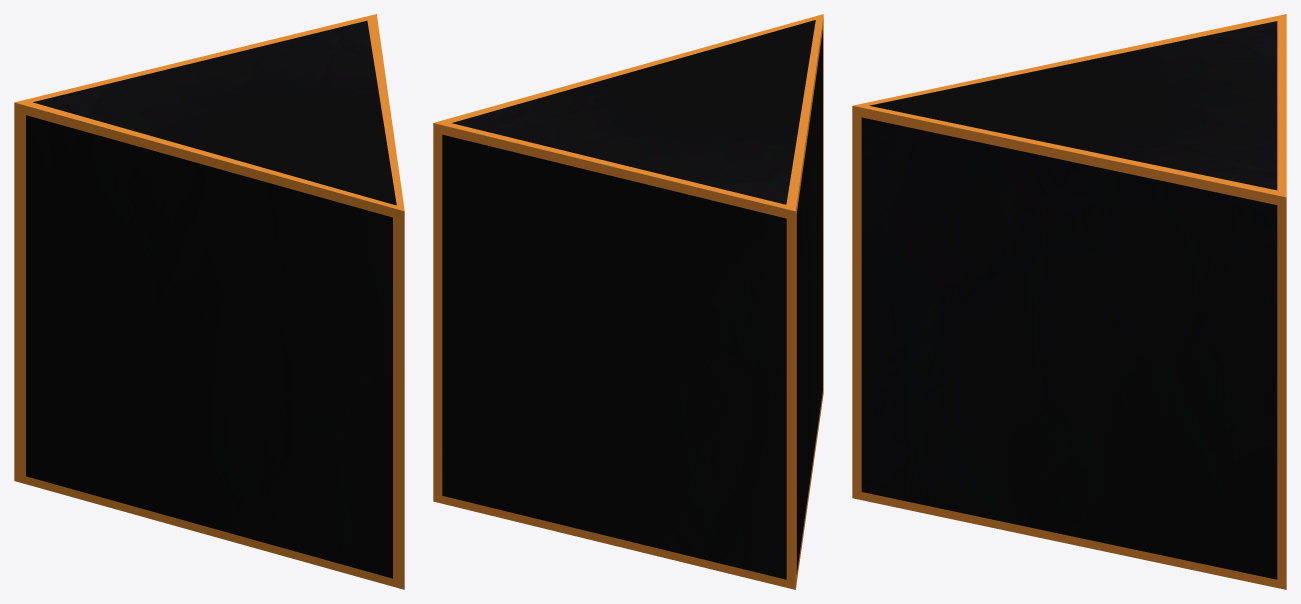
File: tri.fbx
3 renders of one model, left to right at view 1: azimuth 30°, elevation 25°; view 2: azimuth 150°, elevation 25°; view 3: azimuth 270°, elevation 25°, orthographic. The views are drawn at different scales.
Parts seen in each view (by area): view 1: pPrism1; view 2: pPrism1; view 3: pPrism1.
Boxes of the visible parts, x1,y1,x2,y2 form: pPrism1: (14,14,404,589); pPrism1: (433,14,823,589); pPrism1: (852,14,1286,589).
Size of the model in its own units: 301 by 300 by 301.
